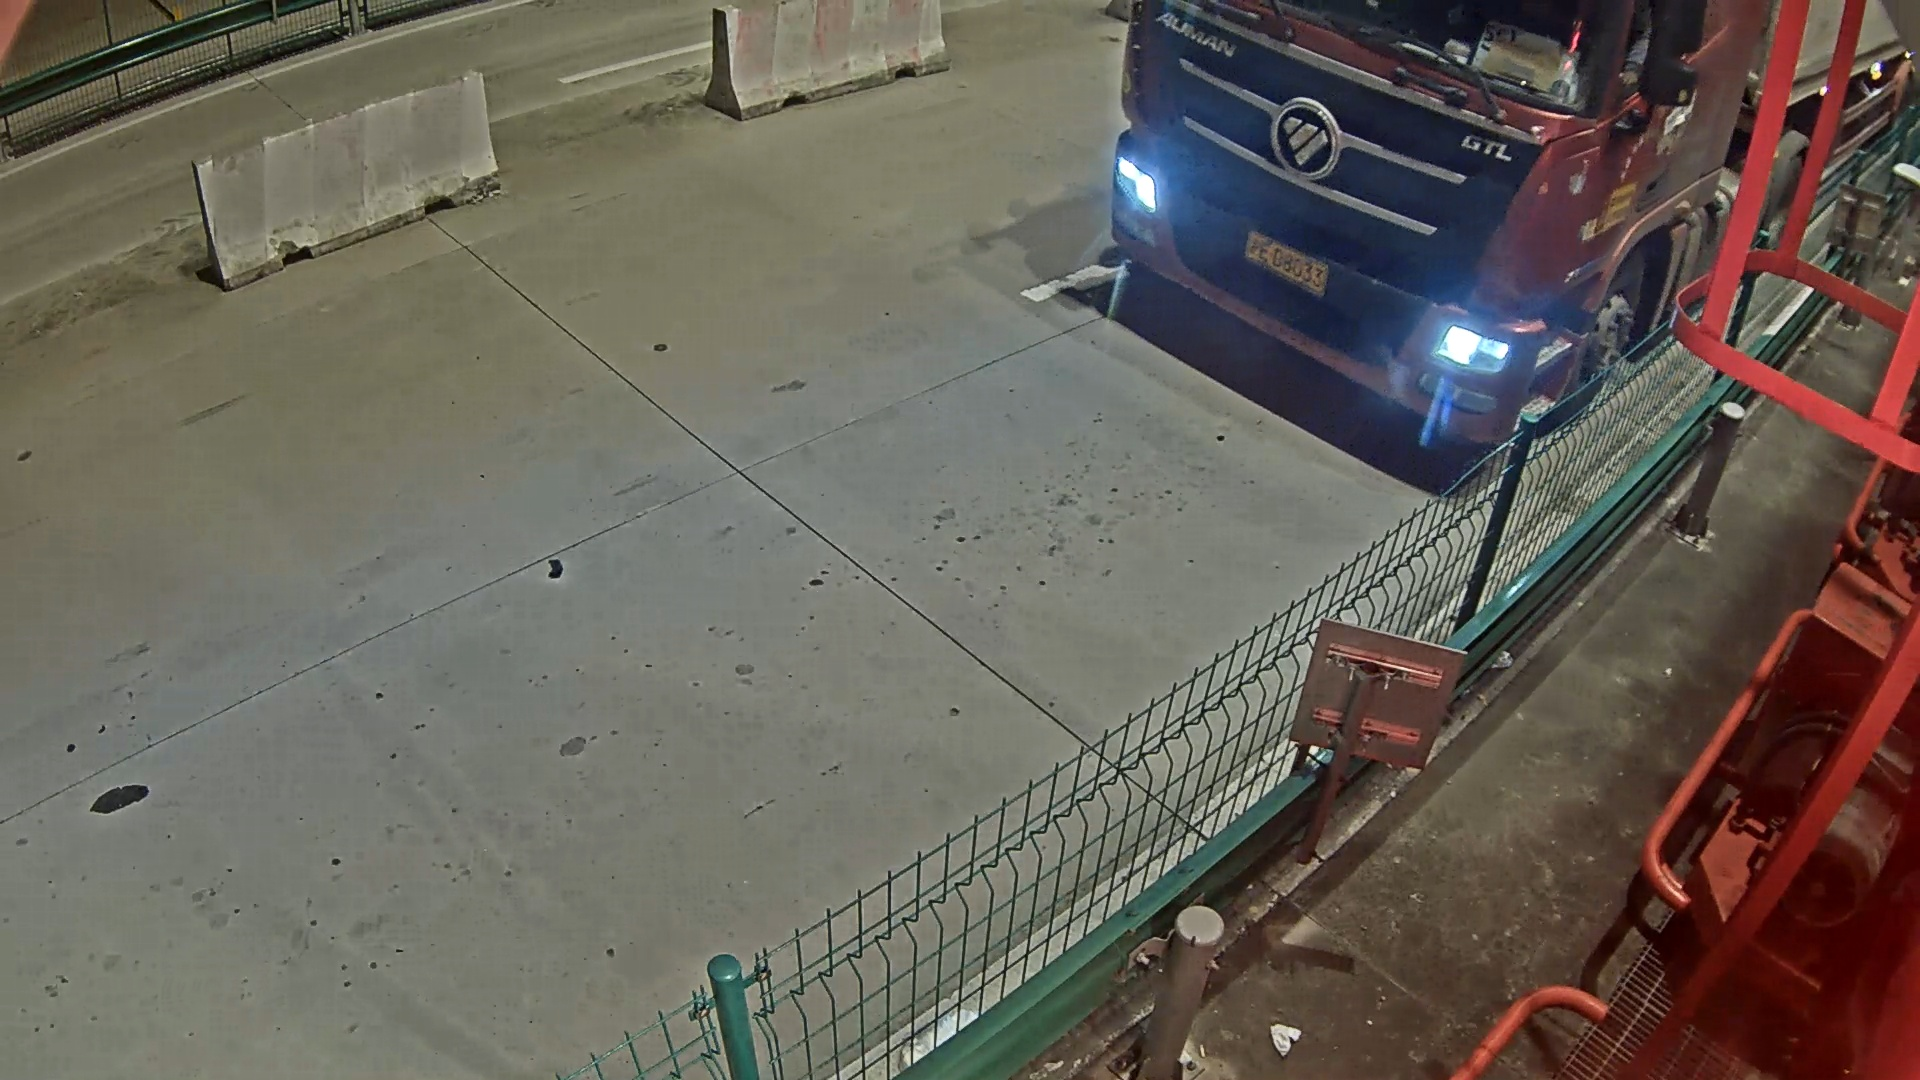head: (1122, 5, 1677, 444)
plate: (1241, 219, 1352, 310)
